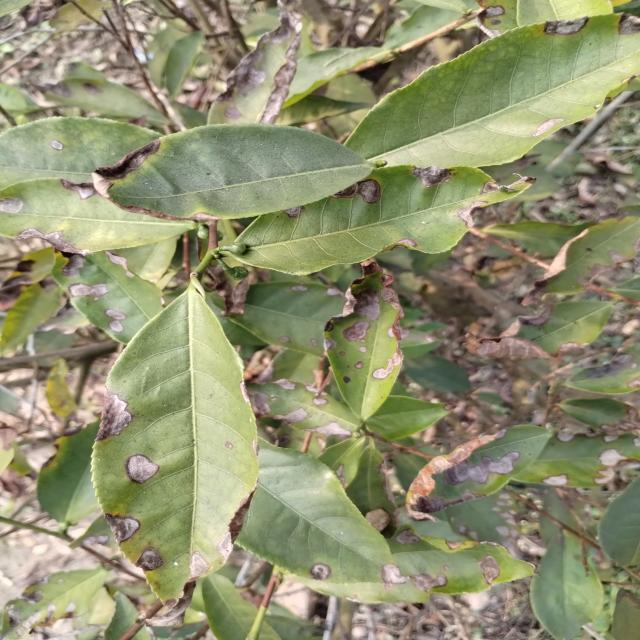Leaf: (92, 278, 258, 604), (344, 14, 640, 167), (239, 165, 528, 275), (238, 440, 427, 603), (95, 124, 373, 218), (0, 178, 197, 255), (405, 425, 551, 519), (324, 259, 403, 422), (208, 0, 302, 124), (0, 116, 159, 189), (54, 251, 162, 342), (388, 529, 532, 594), (230, 280, 345, 356), (465, 301, 613, 358), (530, 532, 603, 640), (0, 567, 107, 640), (540, 217, 640, 294), (514, 434, 640, 487), (37, 422, 99, 525), (247, 378, 358, 435), (284, 47, 389, 107), (44, 78, 169, 126), (346, 437, 396, 531), (0, 280, 62, 355), (436, 493, 512, 544), (483, 221, 592, 256), (202, 572, 257, 640), (598, 477, 640, 566), (563, 346, 640, 394), (366, 395, 448, 440), (557, 398, 640, 434), (164, 31, 204, 98), (403, 353, 470, 392), (318, 437, 366, 488), (401, 327, 439, 358), (262, 623, 280, 640)
